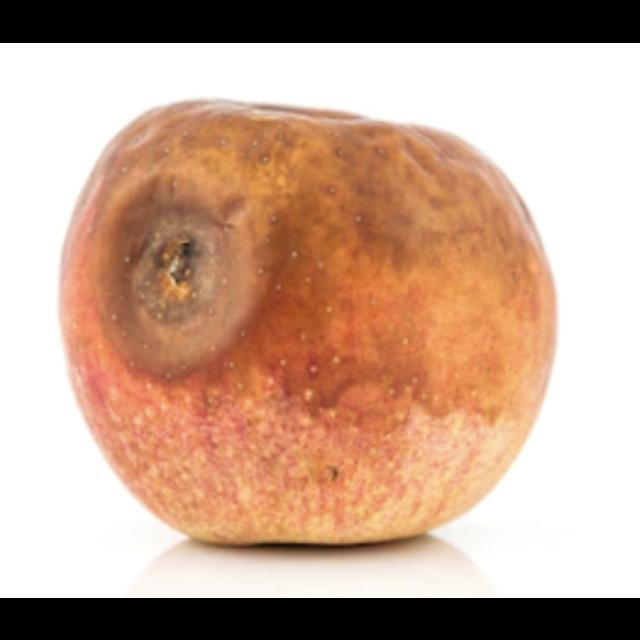Apel Tidak Segar: (54, 95, 559, 544)
